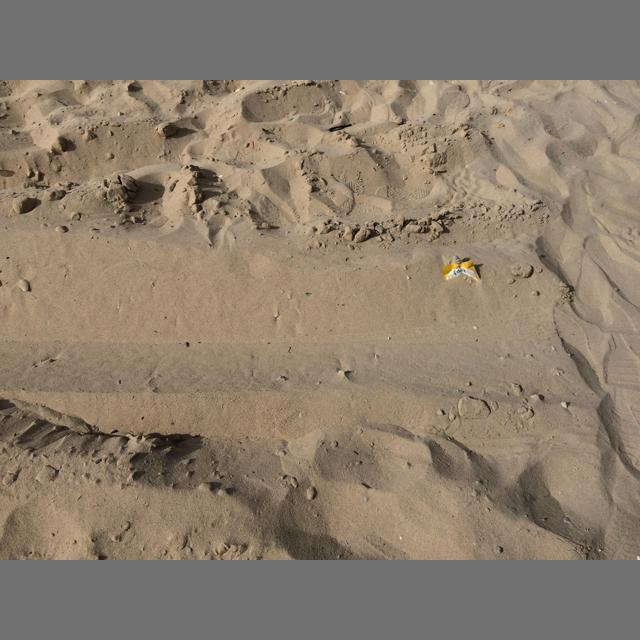litter: (442, 254, 481, 282), (328, 124, 352, 131)
